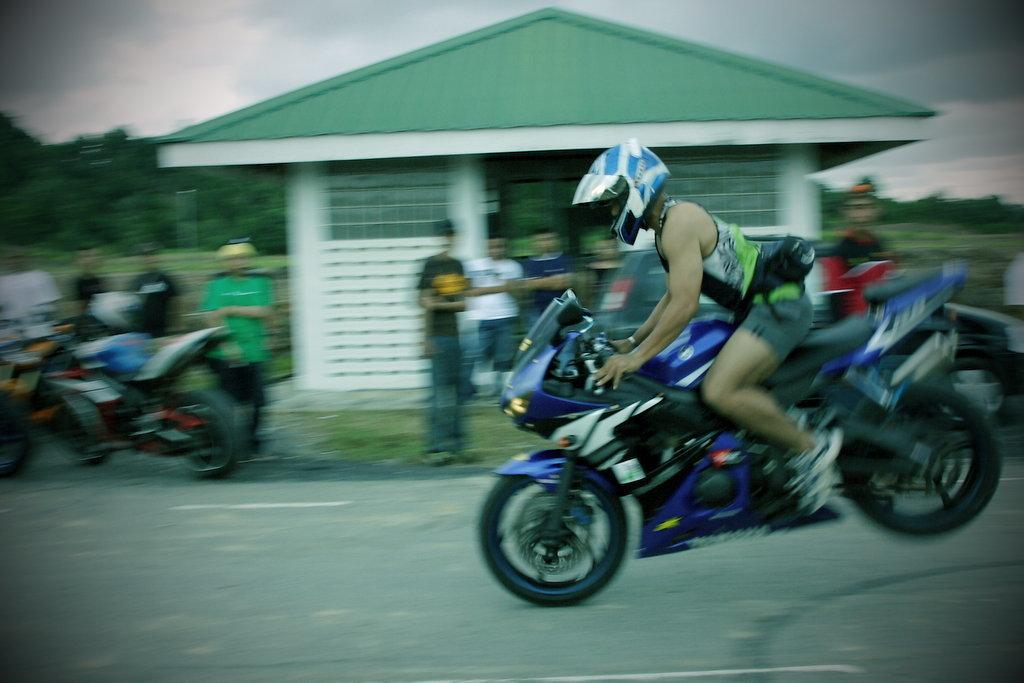helmet: (572, 142, 671, 246), (89, 291, 143, 331)
